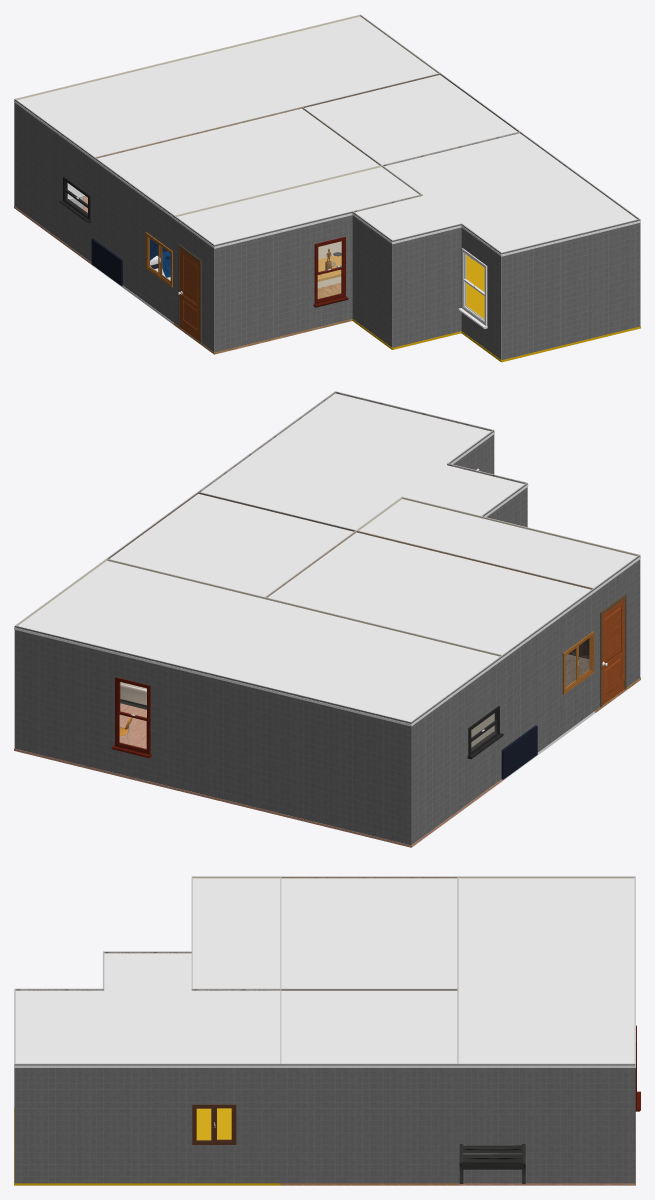
The model's file is ProcTHOR-Train-179.glb.
3 views of the same model, one above another, from view 1: azimuth 30°, elevation 25°; view 2: azimuth 150°, elevation 25°; view 3: azimuth 270°, elevation 25° (orthographic). The views are drawn at different scales.
Parts seen in each view (by area): view 1: Ceiling#room|6|c, Ceiling#room|8|c, Ceiling#room|4|c, WallInside#wall|exterior|0.00|12.88|3.68|12.88, WallInside#wall|exterior|5.52|9.20|9.20|9.20, Ceiling#room|5|c, Ceiling#room|9|c, WallInside#wall|exterior|9.20|0.00|9.20|3.68, WallInside#wall|exterior|3.68|11.04|5.52|11.04, WallInside#wall|exterior|9.20|3.68|9.20|7.36, WallInside#wall|exterior|5.52|9.20|5.52|11.04, WallInside#wall|exterior|3.68|11.04|3.68|12.88 (+11 smaller); view 2: WallInside#wall|exterior|0.00|0.00|9.20|0.00, Ceiling#room|6|c, Ceiling#room|8|c, Ceiling#room|4|c, Ceiling#room|5|c, Ceiling#room|9|c, WallInside#wall|exterior|9.20|0.00|9.20|3.68, WallInside#wall|exterior|9.20|3.68|9.20|7.36, WallInside#wall|exterior|9.20|7.36|9.20|9.20, Doorway_4, Floor#room|6|f, Window_Hung_32x60 (+7 smaller); view 3: Ceiling#room|6|c, WallInside#wall|exterior|0.00|7.36|0.00|12.88, Ceiling#room|8|c, WallInside#wall|exterior|0.00|3.68|0.00|7.36, Ceiling#room|4|c, WallInside#wall|exterior|0.00|0.00|0.00|3.68, Ceiling#room|5|c, Ceiling#room|9|c, Floor#room|8|f, Bed_7, Window_Slider_36x36, Floor#room|6|f (+3 smaller).
Boxes of the visible parts, <box> form: Ceiling#room|6|c: <box>14,16,437,160</box>; Ceiling#room|8|c: <box>352,133,640,256</box>; Ceiling#room|4|c: <box>93,108,379,219</box>; WallInside#wall|exterior|0.00|12.88|3.68|12.88: <box>501,219,640,359</box>; WallInside#wall|exterior|5.52|9.20|9.20|9.20: <box>214,211,352,352</box>; Ceiling#room|5|c: <box>304,75,519,164</box>; Ceiling#room|9|c: <box>173,167,420,248</box>; WallInside#wall|exterior|9.20|0.00|9.20|3.68: <box>14,99,94,262</box>; WallInside#wall|exterior|3.68|11.04|5.52|11.04: <box>392,223,461,347</box>; WallInside#wall|exterior|9.20|3.68|9.20|7.36: <box>94,158,174,322</box>; WallInside#wall|exterior|5.52|9.20|5.52|11.04: <box>352,212,392,347</box>; WallInside#wall|exterior|3.68|11.04|3.68|12.88: <box>461,224,501,359</box>; WallInside#wall|exterior|0.00|0.00|9.20|0.00: <box>14,626,411,845</box>; Ceiling#room|6|c: <box>14,561,502,726</box>; Ceiling#room|8|c: <box>201,393,528,529</box>; Ceiling#room|4|c: <box>268,532,595,659</box>; Ceiling#room|5|c: <box>107,494,356,596</box>; Ceiling#room|9|c: <box>359,499,640,591</box>; WallInside#wall|exterior|9.20|0.00|9.20|3.68: <box>411,655,502,844</box>; WallInside#wall|exterior|9.20|3.68|9.20|7.36: <box>502,588,594,752</box>; WallInside#wall|exterior|9.20|7.36|9.20|9.20: <box>594,555,640,710</box>; Doorway_4: <box>600,594,626,707</box>; Floor#room|6|f: <box>14,703,502,847</box>; Window_Hung_32x60: <box>111,677,151,758</box>; Ceiling#room|6|c: <box>457,878,635,1067</box>; WallInside#wall|exterior|0.00|7.36|0.00|12.88: <box>14,1064,281,1183</box>; Ceiling#room|8|c: <box>14,953,281,1067</box>; WallInside#wall|exterior|0.00|3.68|0.00|7.36: <box>280,1064,458,1183</box>; Ceiling#room|4|c: <box>279,878,458,990</box>; WallInside#wall|exterior|0.00|0.00|0.00|3.68: <box>457,1064,635,1183</box>; Ceiling#room|5|c: <box>279,991,458,1067</box>; Ceiling#room|9|c: <box>191,878,281,990</box>; Floor#room|8|f: <box>14,1108,281,1185</box>; Bed_7: <box>459,1144,525,1183</box>; Window_Slider_36x36: <box>192,1104,236,1144</box>; Floor#room|6|f: <box>459,1112,635,1185</box>.
Size of what is drawn, in the model's own units: 9.37 by 2.78 by 13.02.
324 materials, 133 textured.
